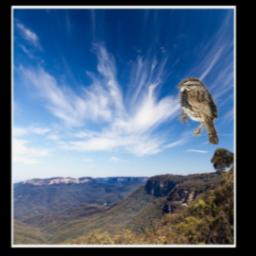Sparrow: (176, 77, 219, 145)
